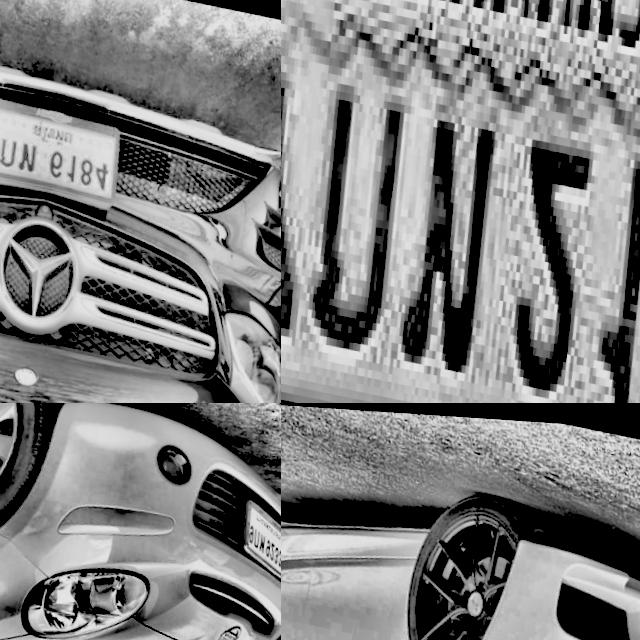license-plate: (281, 0, 640, 403), (0, 80, 136, 209), (232, 489, 281, 575)
